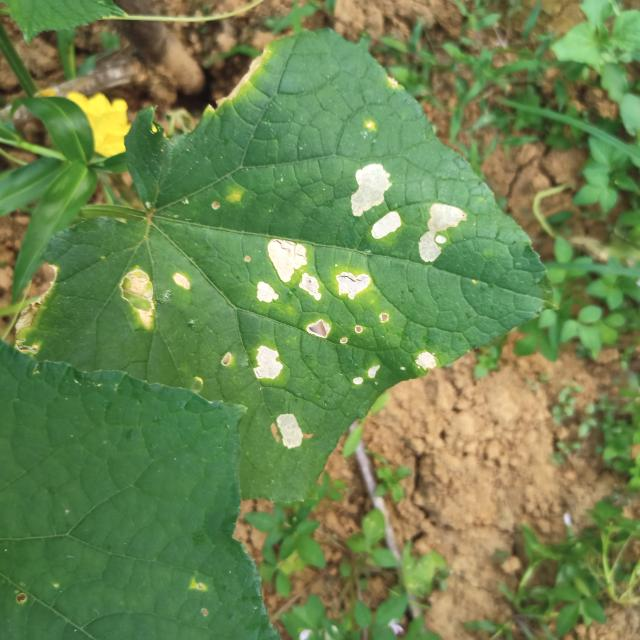disease_cucumber: (255, 237, 372, 341), (119, 266, 192, 332), (350, 160, 404, 240), (415, 197, 468, 266), (350, 354, 385, 389), (253, 344, 285, 382), (276, 412, 303, 451), (411, 349, 437, 375)
